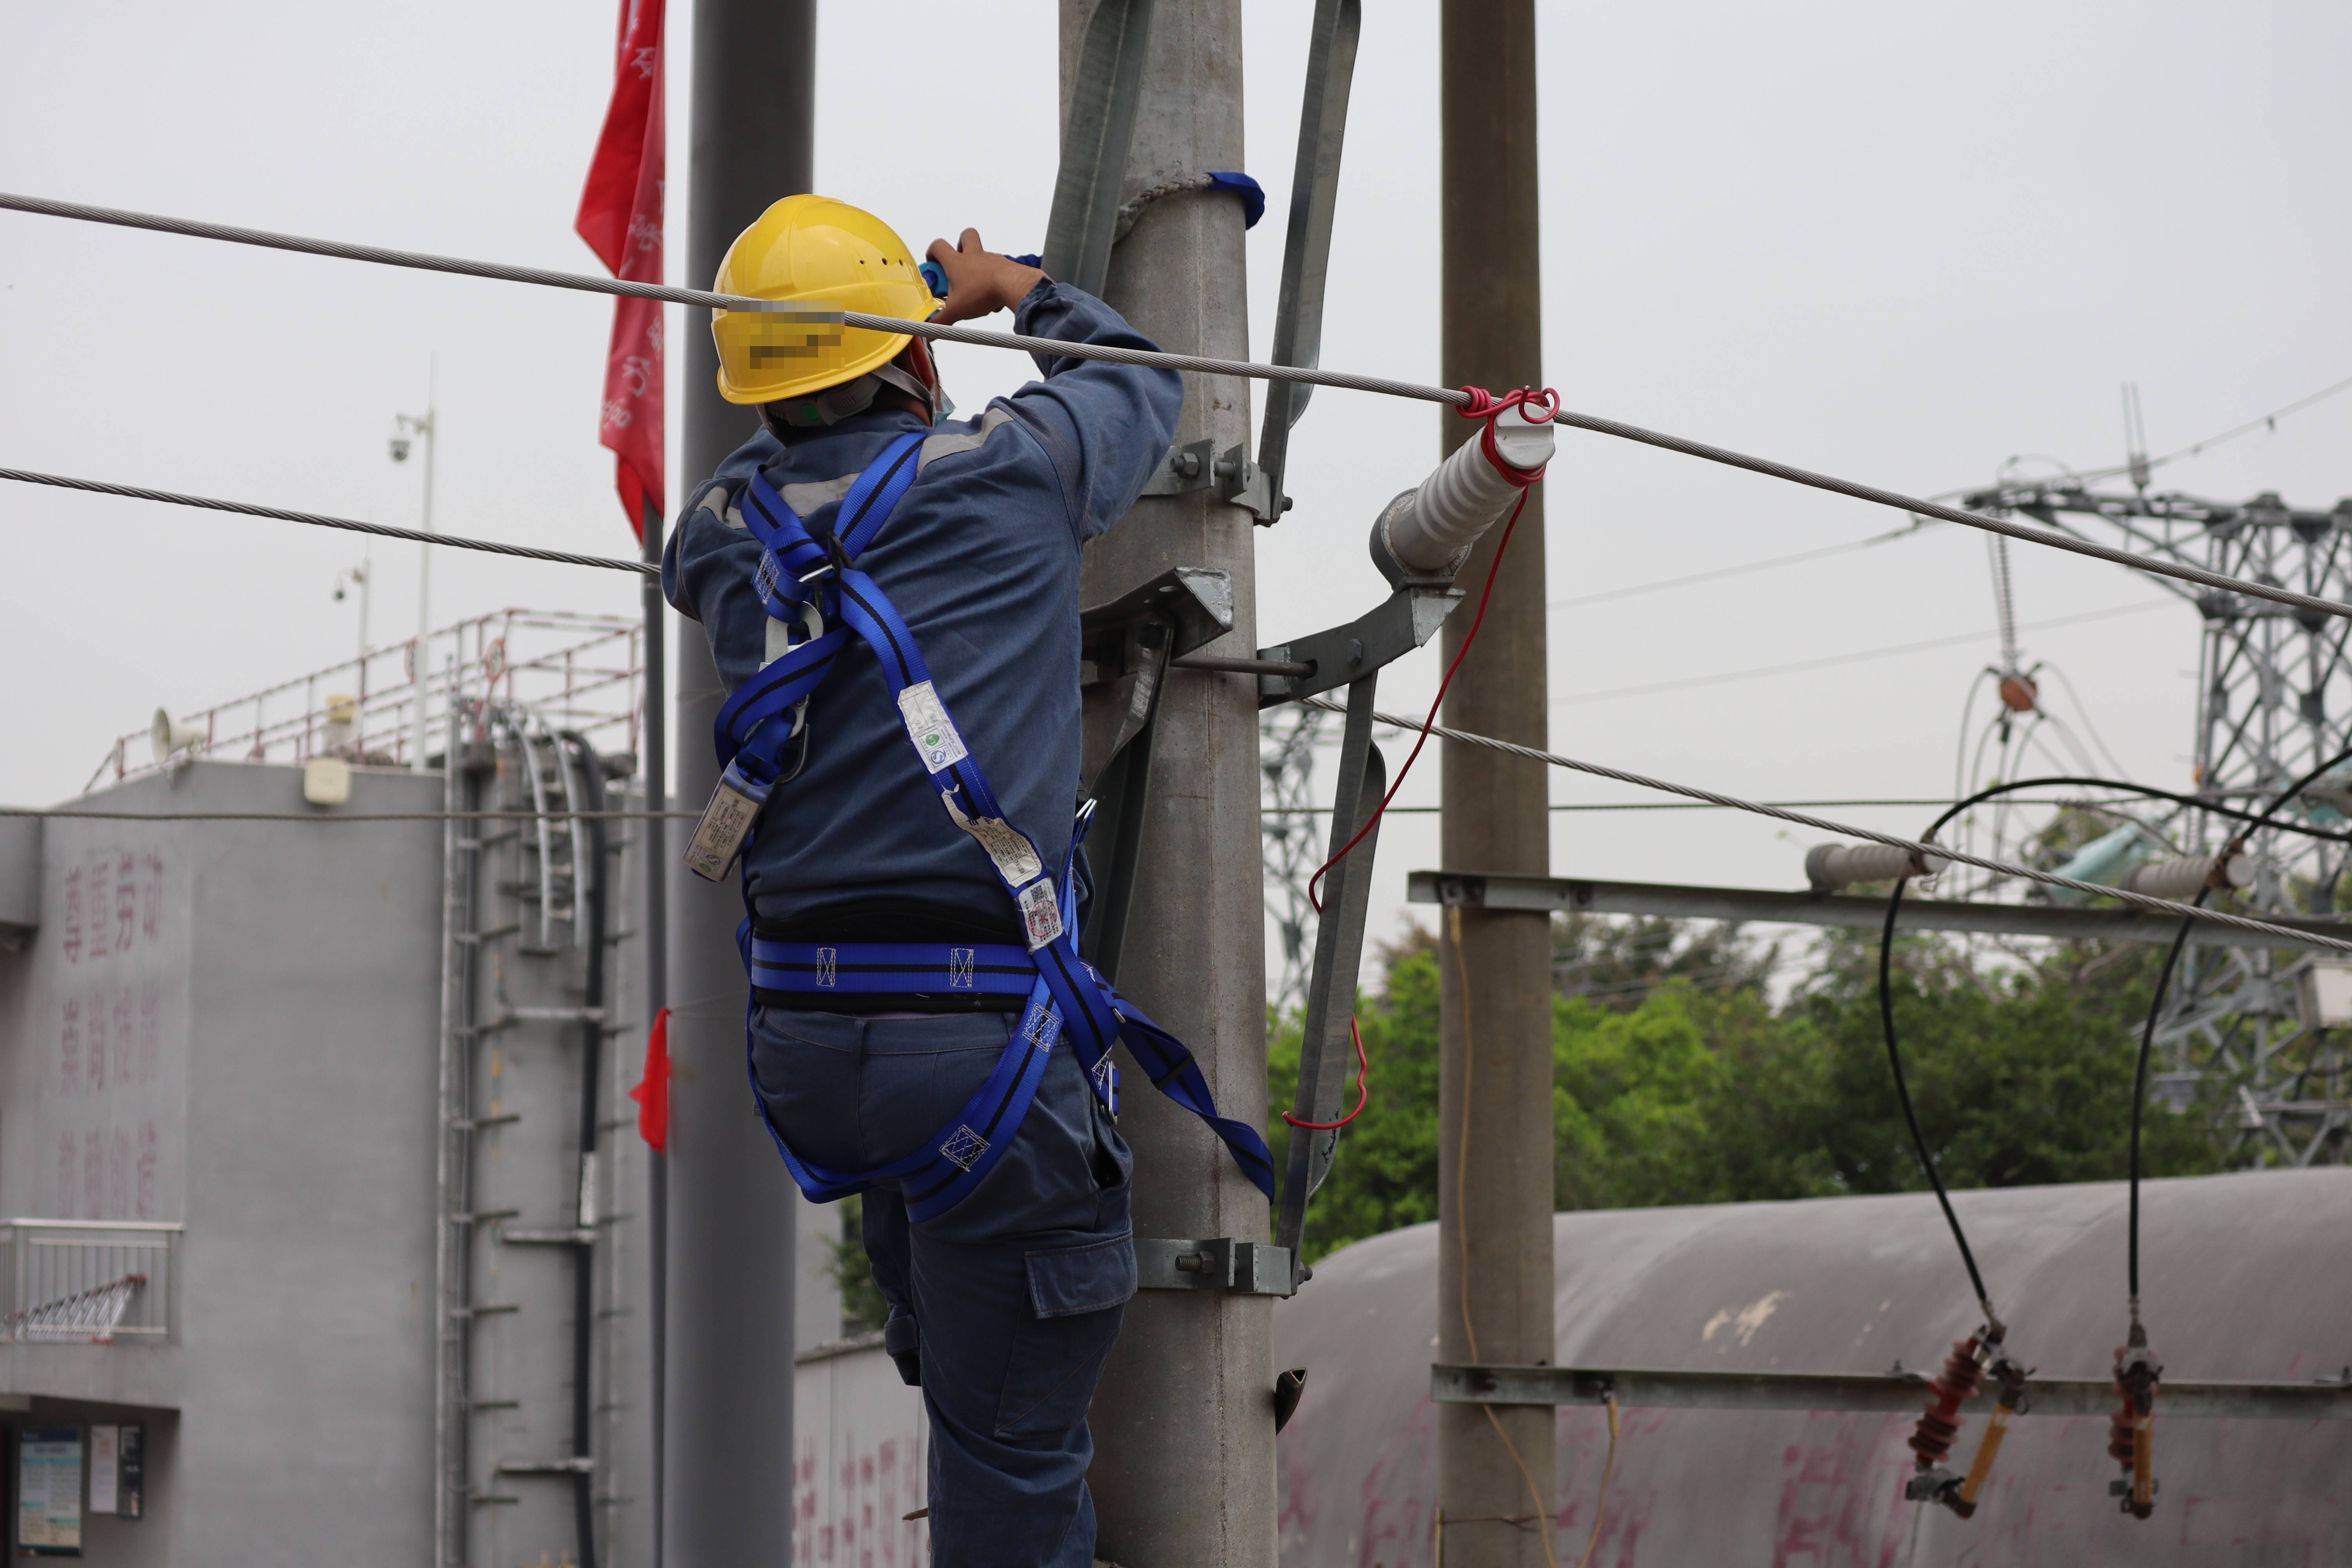downsuit: (768, 1017, 1150, 1568)
upsuit: (670, 451, 1106, 1004)
